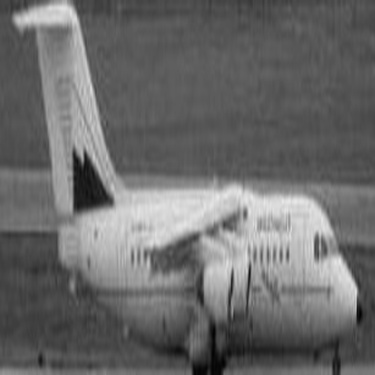airplane: (10, 6, 370, 364)
